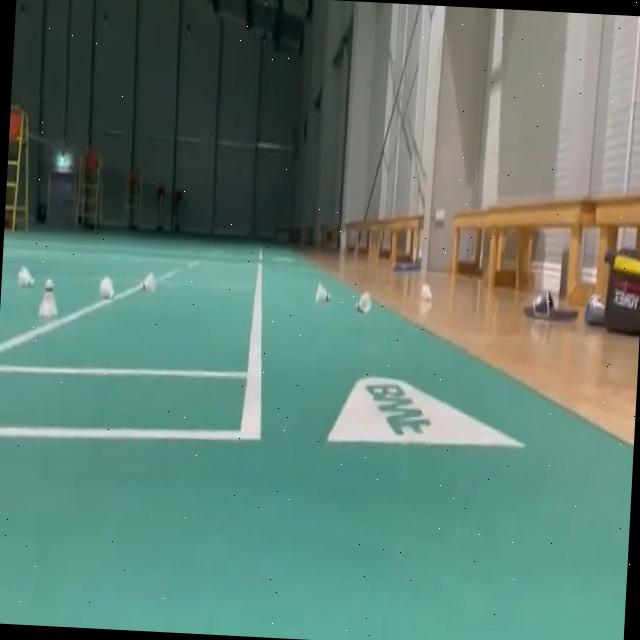Shuttle: (38, 278, 61, 318), (354, 290, 372, 315), (99, 275, 117, 300), (16, 266, 36, 288), (139, 271, 157, 293), (315, 282, 332, 302), (420, 282, 433, 302)
